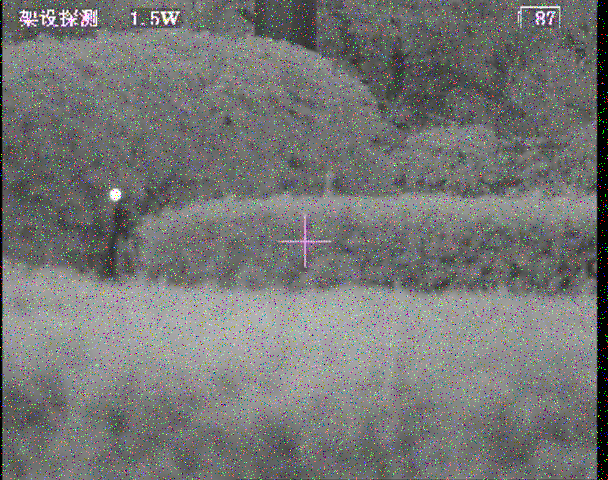my: (109, 188, 122, 202)
